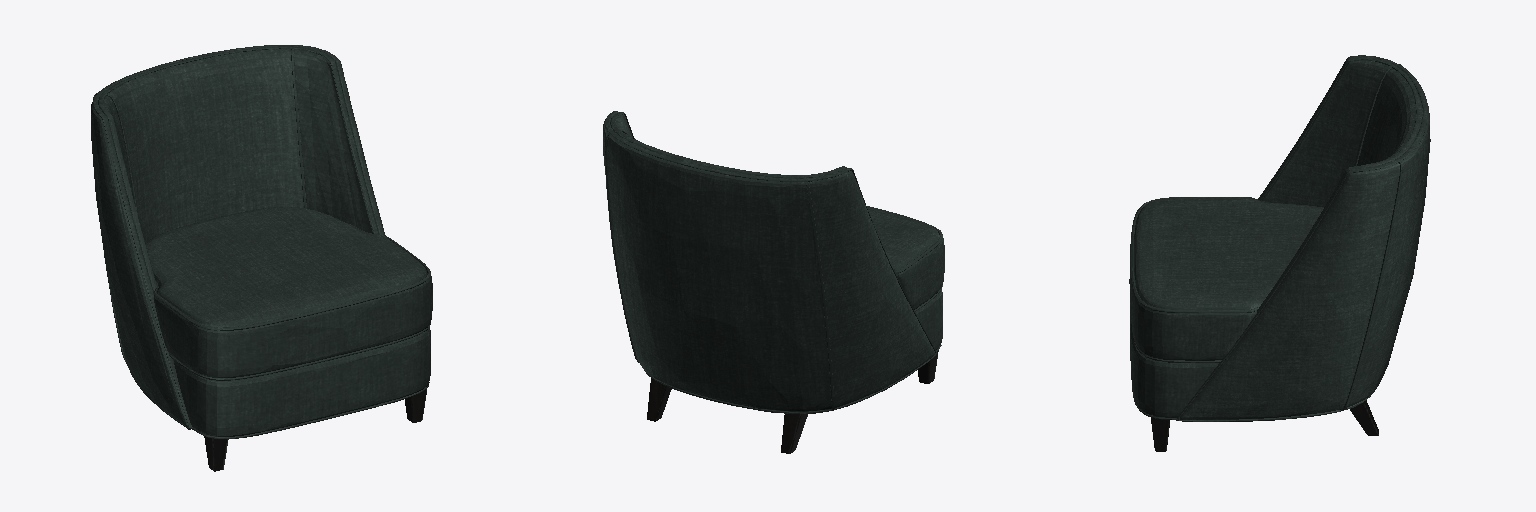
The picture shows the model from 3 angles: view 1: azimuth 30°, elevation 25°; view 2: azimuth 150°, elevation 25°; view 3: azimuth 270°, elevation 25°; orthographic projection.
Visible parts, largest first — view 1: solid_001, solid_002; view 2: solid_001, solid_002; view 3: solid_001, solid_002.
Part boxes in pixels (x1,y1,x2,y2): solid_001: (91,45,432,438); solid_002: (204,389,426,471); solid_001: (603,111,944,413); solid_002: (647,350,938,453); solid_001: (1129,55,1430,421); solid_002: (1151,400,1378,451).
Bounding box in the file's own units: 1.24 × 1.36 × 1.28.
1 materials, 1 textured.